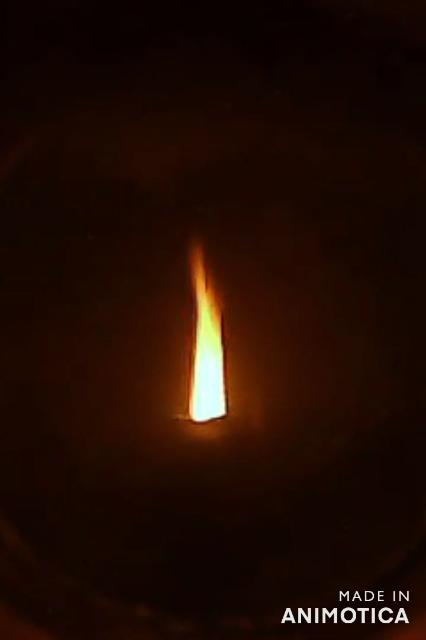burner flame: (180, 233, 232, 427)
